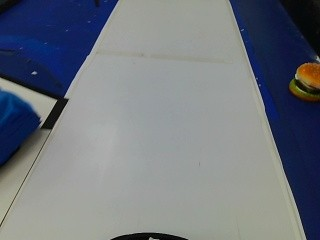burger: (288, 58, 318, 103)
